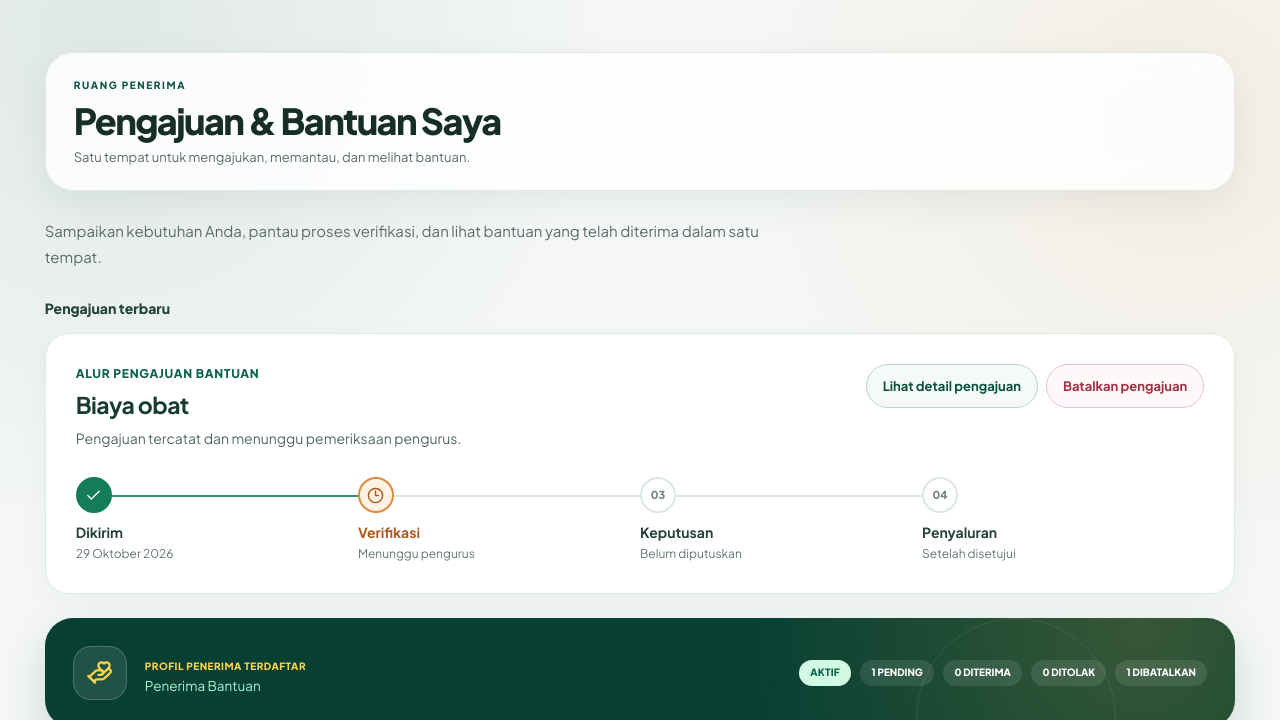
pembatalan memperbarui alur dan notifikasi dapat ditutup
Expected: the text "Pengajuan terbaru" is shown, [45,299,170,317]
What coordinates should you click on to do the following:
click the button "Batalkan pengajuan"
I would click on:
 (1125, 386)
Its box is [1046,364,1204,408].
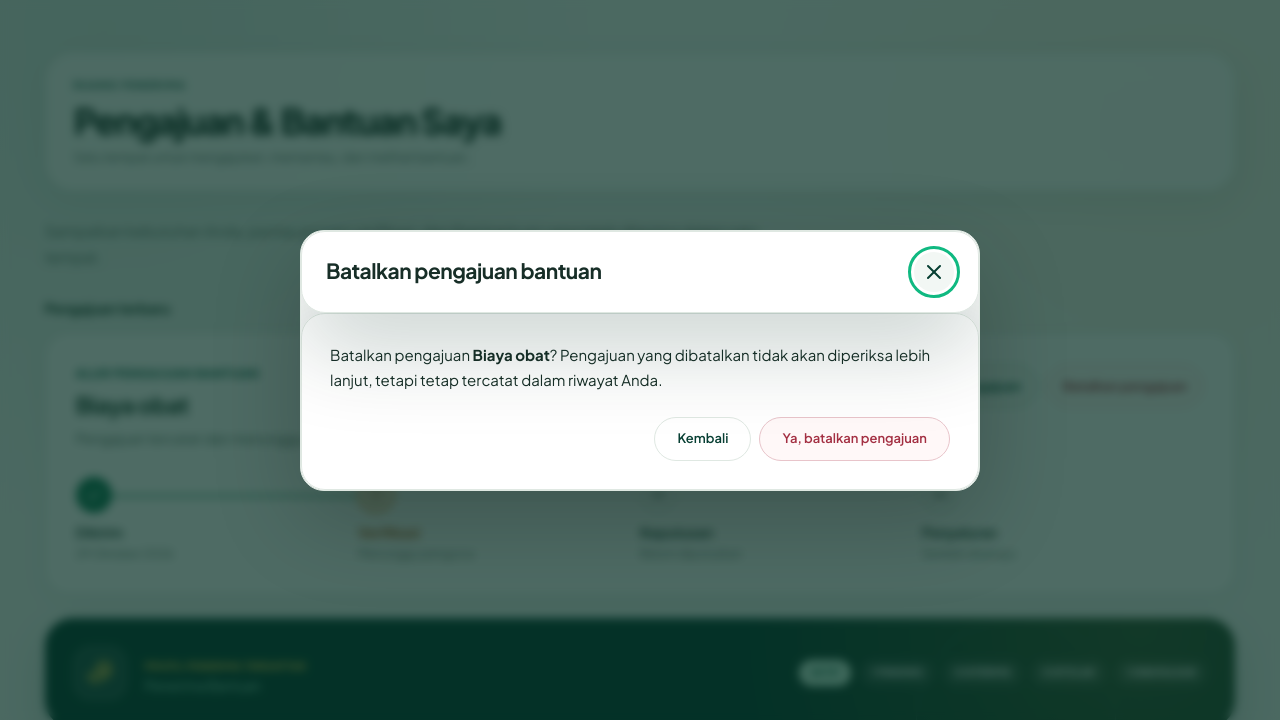
What coordinates should you click on to do the following:
click the button "Ya, batalkan pengajuan"
I would click on:
 (855, 438)
Its box is [759,416,950,460].
(page scrolled)
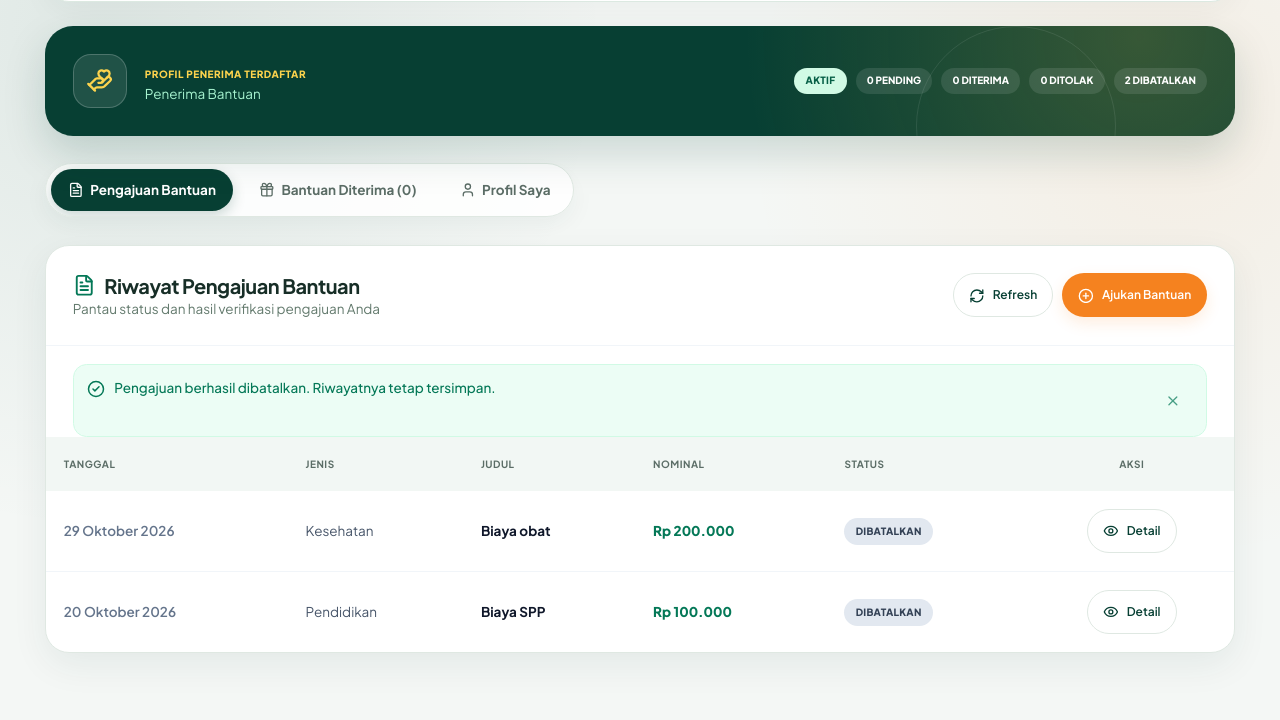
Expected: the text "Pengajuan berhasil dibatalkan. Riwayatnya tetap tersimpan." is shown, [114,378,496,396]
What coordinates should you click on to do the following:
click the button named "Tutup notifikasi"
I would click on:
 (1172, 400)
Its box is [1152,378,1193,422].
(page scrolled)
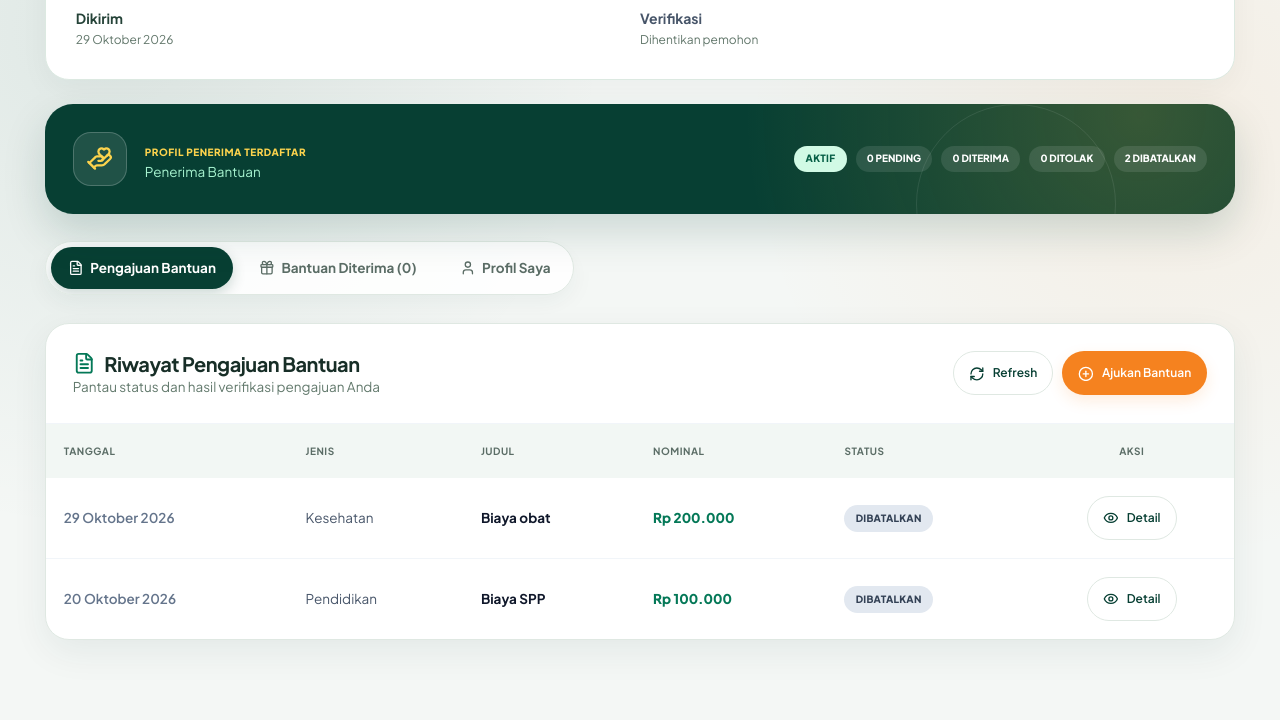
Expected: the text "Pengajuan berhasil dibatalkan. Riwayatnya tetap tersimpan." is gone
